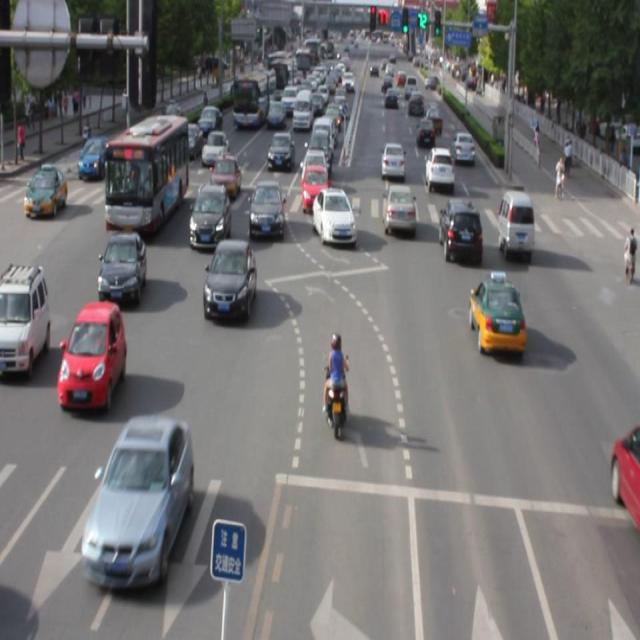car: (84, 412, 192, 584), (58, 300, 126, 408), (468, 272, 524, 356), (203, 236, 255, 321), (609, 416, 640, 525), (99, 232, 144, 300), (438, 196, 481, 260), (310, 188, 357, 246), (189, 182, 230, 248), (250, 178, 286, 237), (381, 180, 417, 232)
truck: (498, 187, 533, 255)
van: (105, 115, 188, 235)
